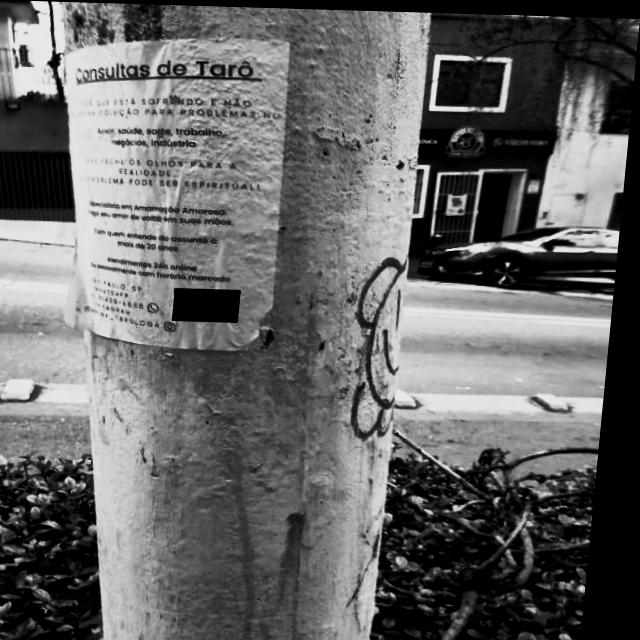qr_code: (178, 287, 247, 321)
